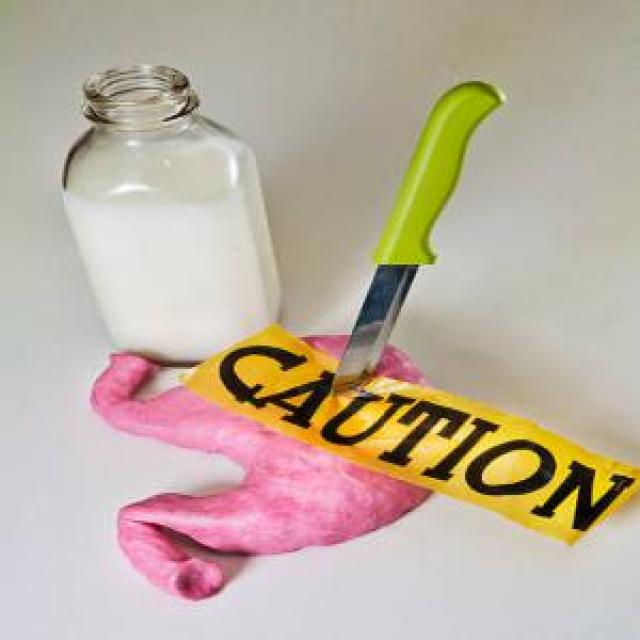knife: (316, 74, 510, 410)
